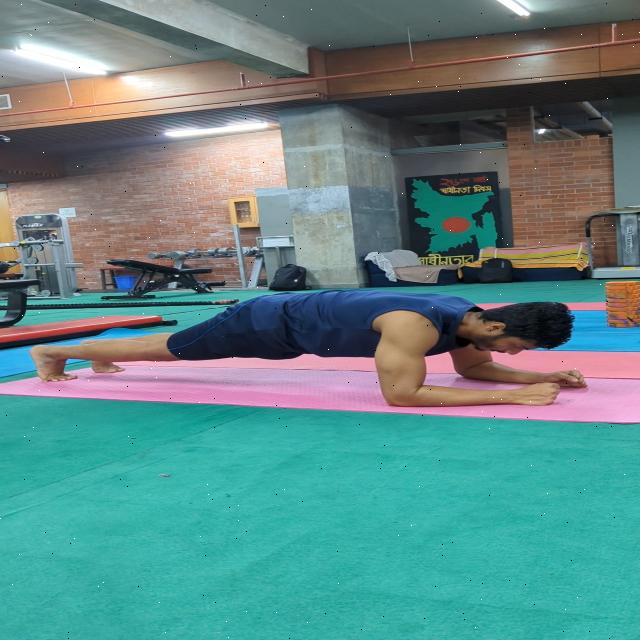Normal_Plunk: (30, 287, 616, 419)
